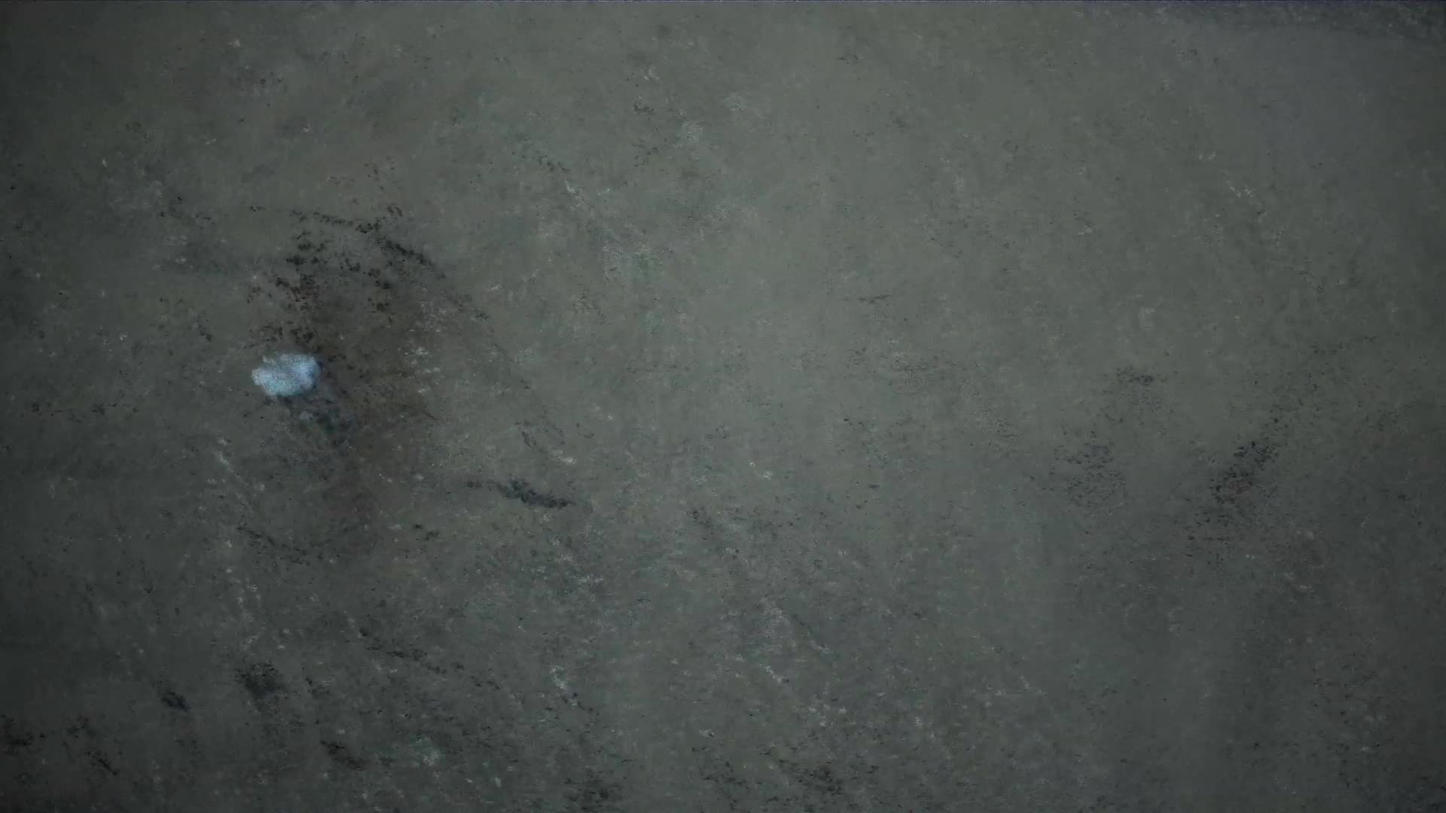Target: (246, 348, 322, 401)
